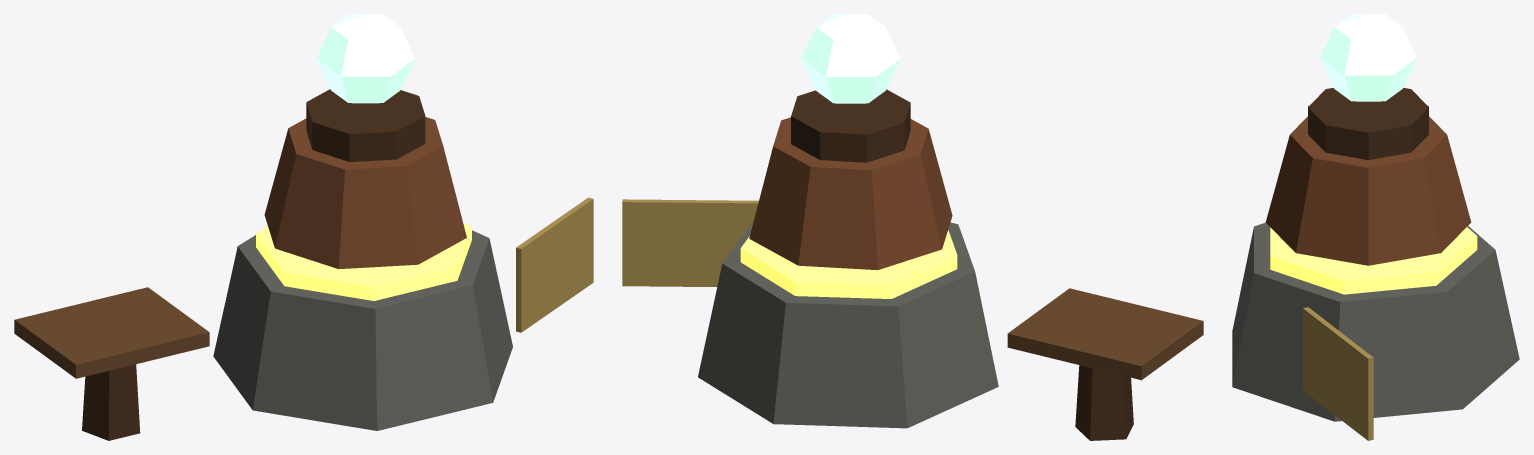
File: prop_herb_pot.glb
3 renders of one model, left to right at view 1: azimuth 30°, elevation 25°; view 2: azimuth 150°, elevation 25°; view 3: azimuth 270°, elevation 25°, orthographic. The views are drawn at different scales.
Visible parts, largest first — view 1: prop_herb_pot; view 2: prop_herb_pot; view 3: prop_herb_pot.
Part boxes in pixels (left/top/right/bottom): prop_herb_pot: left=14, top=14, right=593, bottom=440; prop_herb_pot: left=622, top=14, right=1203, bottom=440; prop_herb_pot: left=1232, top=14, right=1519, bottom=440.
Size of the model in its own units: 2.05 by 1.26 by 0.9505.
